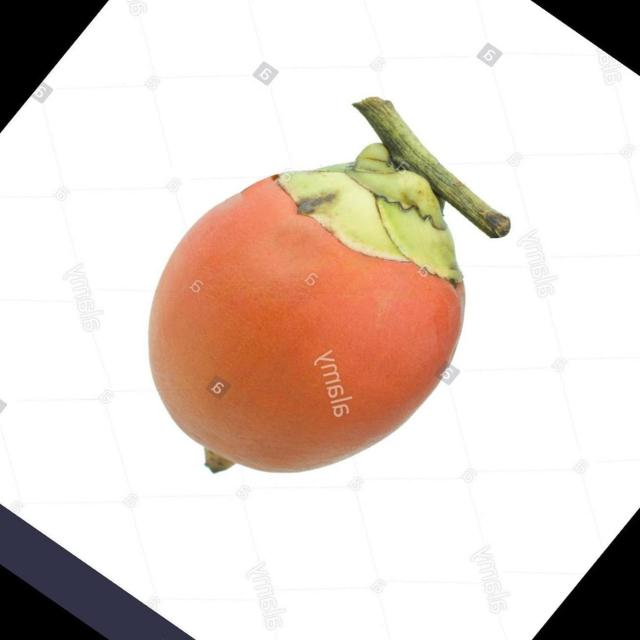good: (147, 97, 512, 477)
